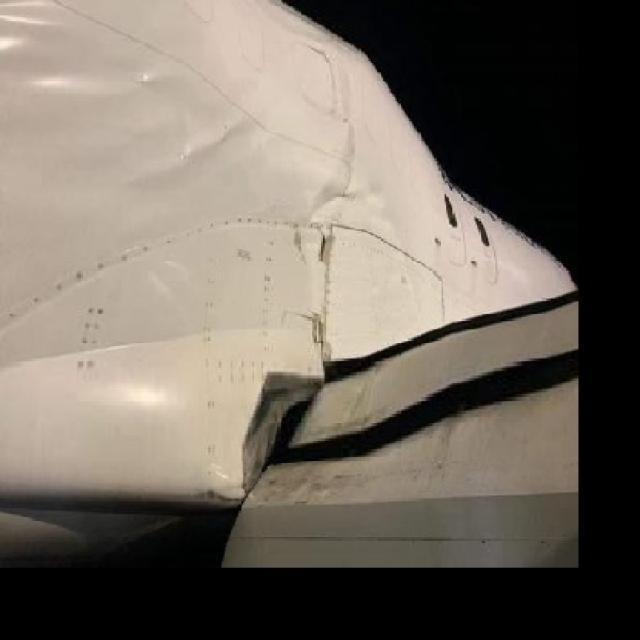dent: (301, 177, 404, 254), (127, 115, 258, 161), (98, 360, 173, 417), (3, 3, 85, 54), (27, 66, 133, 102), (150, 250, 209, 304)
